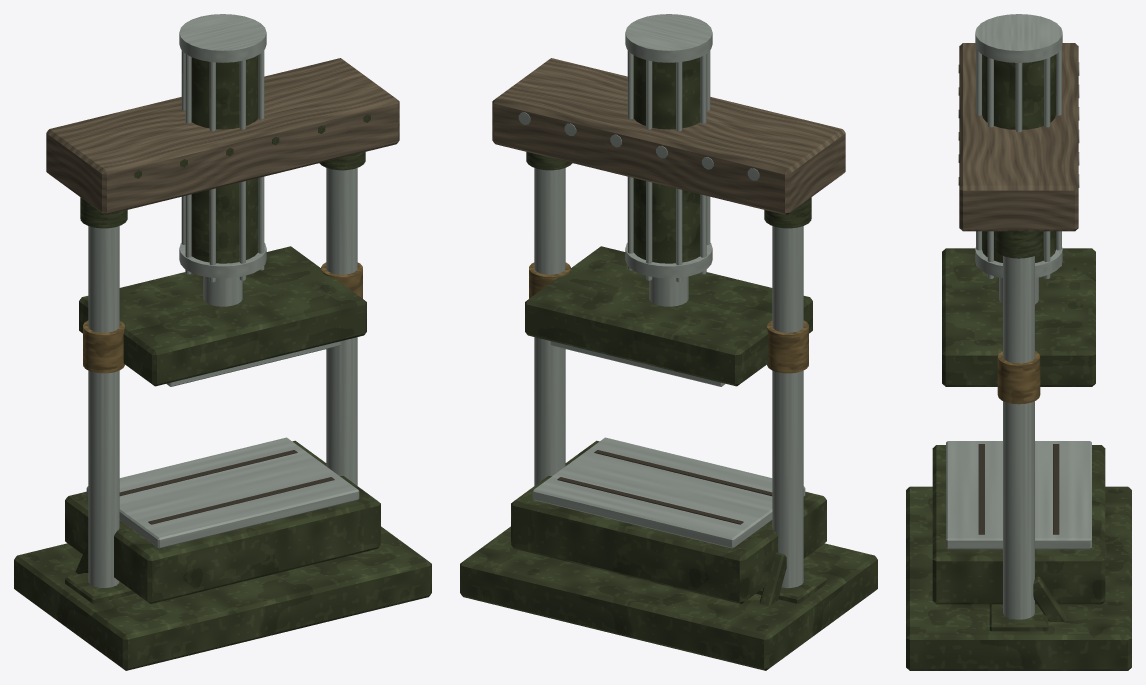
3 views of the same model, side by side, from view 1: azimuth 30°, elevation 25°; view 2: azimuth 150°, elevation 25°; view 3: azimuth 270°, elevation 25° (orthographic).
Visible parts, largest first — view 1: olive-painted-field-steel (×2), machined-bearing-steel (×2), quarter-sawn-timber, aged-bronze, mortar-joint-recess; view 2: olive-painted-field-steel (×2), machined-bearing-steel (×2), quarter-sawn-timber, aged-bronze, mortar-joint-recess; view 3: olive-painted-field-steel (×2), machined-bearing-steel, quarter-sawn-timber, aged-bronze, mortar-joint-recess.
Part boxes in pixels (x1=…): olive-painted-field-steel (×2): x1=14, y1=55, x2=431, y2=670; machined-bearing-steel (×2): x1=86, y1=14, x2=359, y2=587; quarter-sawn-timber: x1=46, y1=58, x2=399, y2=215; aged-bronze: x1=83, y1=262, x2=362, y2=373; mortar-joint-recess: x1=119, y1=450, x2=334, y2=524; olive-painted-field-steel (×2): x1=460, y1=55, x2=877, y2=670; machined-bearing-steel (×2): x1=518, y1=14, x2=805, y2=587; quarter-sawn-timber: x1=492, y1=58, x2=845, y2=215; aged-bronze: x1=529, y1=262, x2=808, y2=373; mortar-joint-recess: x1=557, y1=450, x2=772, y2=524; olive-painted-field-steel (×2): x1=906, y1=54, x2=1131, y2=670; machined-bearing-steel: x1=946, y1=14, x2=1091, y2=619; quarter-sawn-timber: x1=959, y1=43, x2=1078, y2=231; aged-bronze: x1=997, y1=351, x2=1040, y2=404; mortar-joint-recess: x1=978, y1=444, x2=1059, y2=534.
Size of the model in its own units: 1.35 by 2.35 by 0.85.
6 materials, 5 textured.
